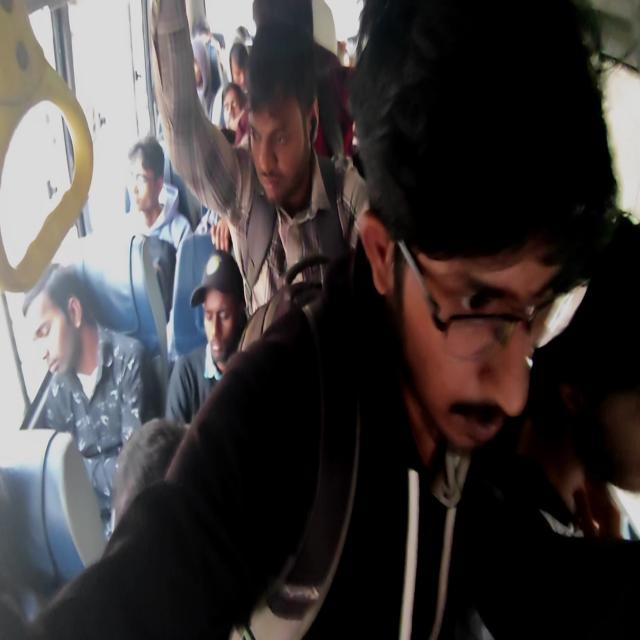person: (371, 42, 575, 440), (107, 438, 225, 628), (27, 268, 90, 393), (0, 468, 47, 634), (255, 70, 316, 196), (190, 170, 244, 245), (200, 280, 232, 390), (126, 134, 164, 213), (178, 50, 213, 105), (221, 92, 249, 150), (234, 40, 266, 88), (232, 19, 256, 49), (194, 19, 212, 44)
